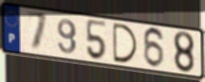5: (84, 17, 108, 62)
6: (142, 26, 168, 70)
7: (25, 9, 49, 53)
8: (173, 30, 196, 74)
9: (56, 18, 78, 55)
D: (111, 21, 140, 65)
